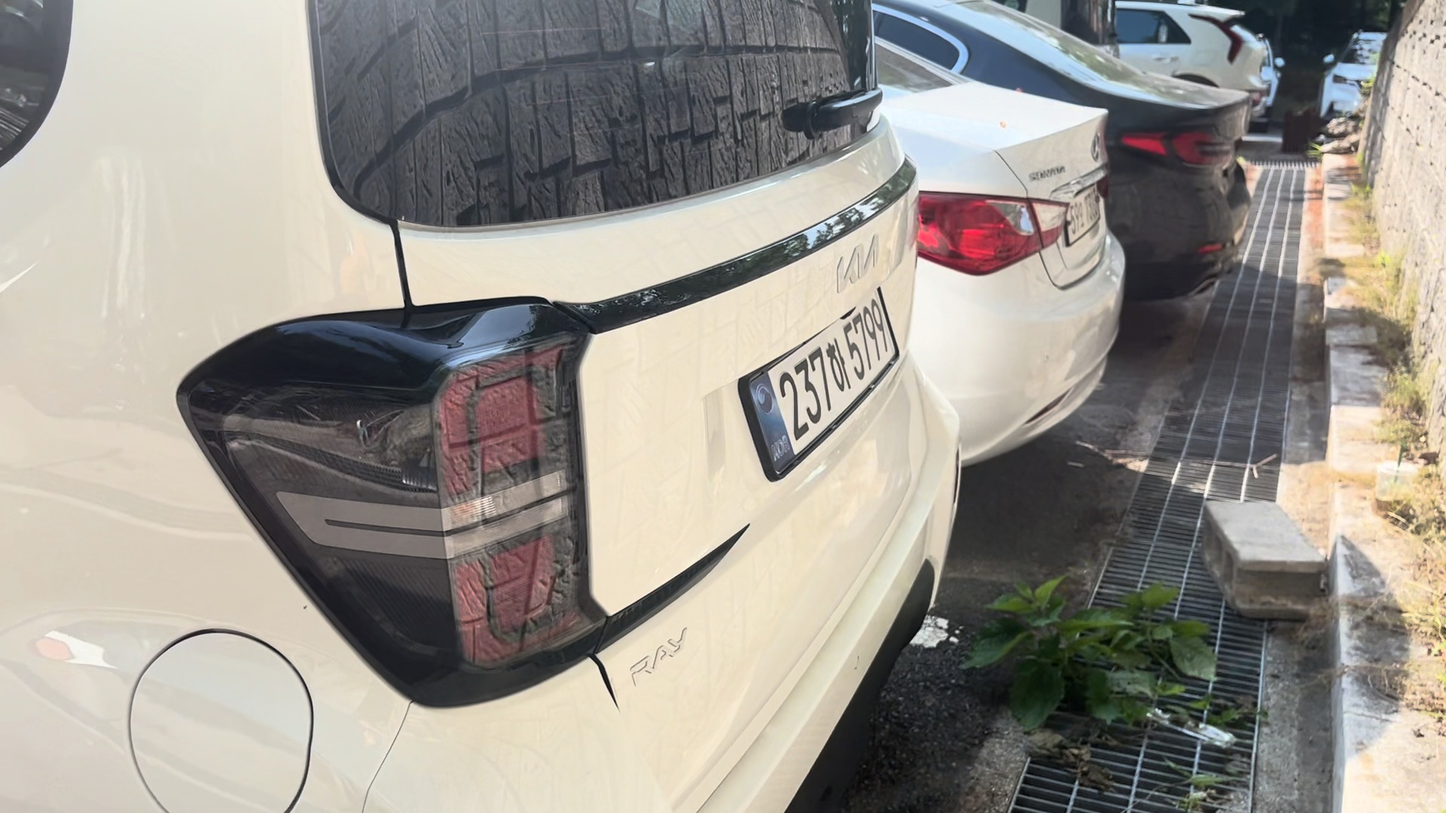license_plate: (740, 289, 898, 478)
tail_light: (178, 303, 606, 705), (917, 193, 1068, 275), (1121, 132, 1235, 166), (1191, 14, 1244, 63)
